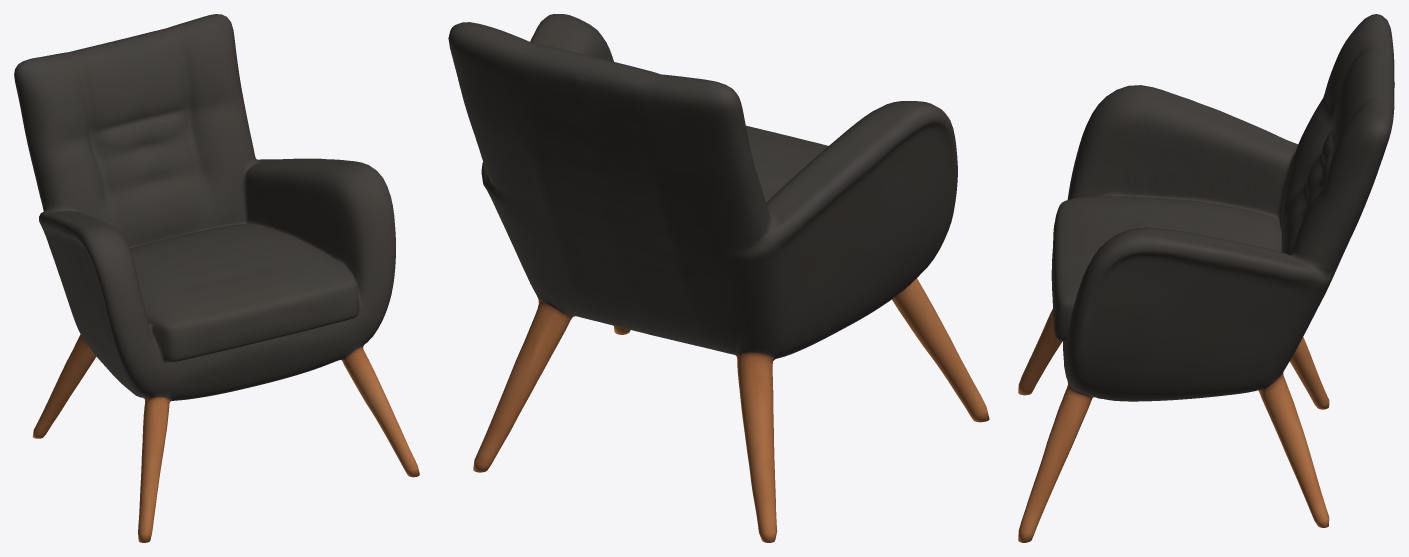
Rendered from black_chair.glb.
3 renders of one model, left to right at view 1: azimuth 30°, elevation 25°; view 2: azimuth 150°, elevation 25°; view 3: azimuth 270°, elevation 25°, orthographic. The views are drawn at different scales.
Visible parts, largest first — view 1: model_1; view 2: model_1; view 3: model_1.
Part boxes in pixels (x1=…): model_1: x1=14, y1=14, x2=419, y2=542; model_1: x1=448, y1=14, x2=989, y2=542; model_1: x1=1018, y1=14, x2=1394, y2=542.
Bounding box in the file's own units: 1.64 × 1.9 × 1.62.
Materials: 1 (1 with a texture image).
